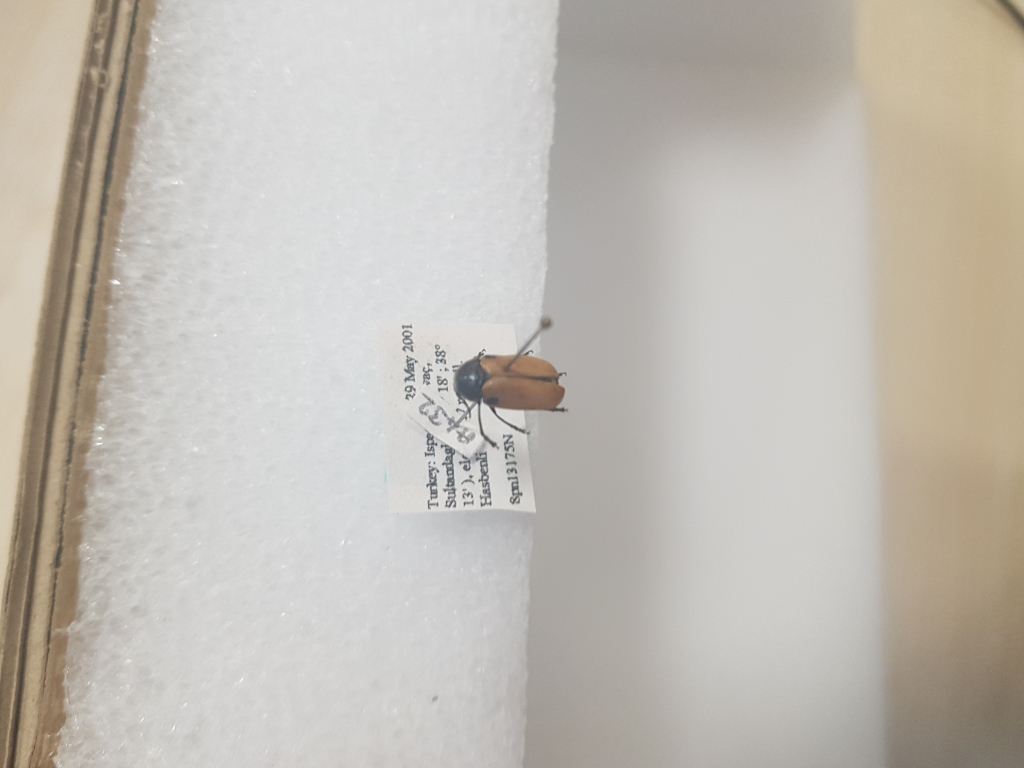Labidostomis_asiatica: (451, 342, 581, 444)
